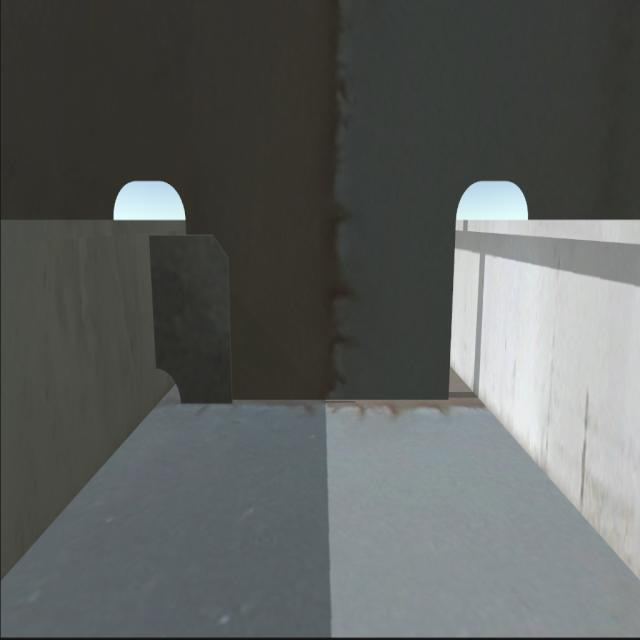fillet_hole: (156, 368, 184, 406)
fillet_yong_jeop_jang: (177, 390, 450, 405)
longi_yong_jeop_jang: (148, 237, 161, 364)
plate_CP03: (151, 231, 237, 405)
